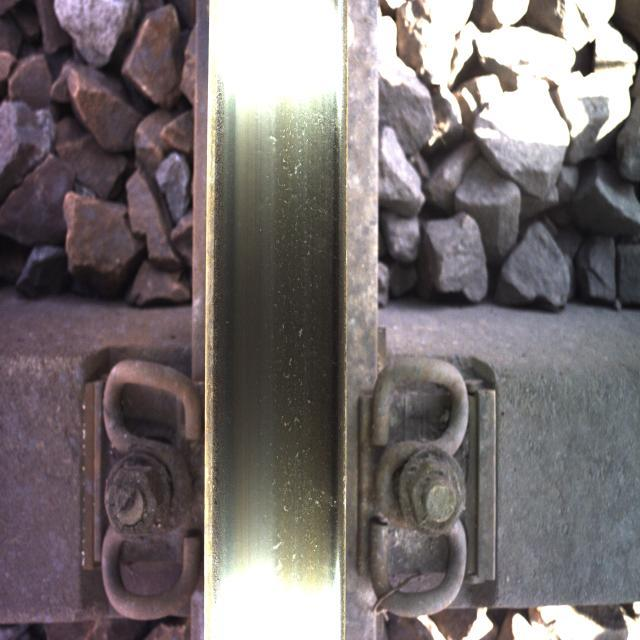normal: (221, 47, 339, 604)
